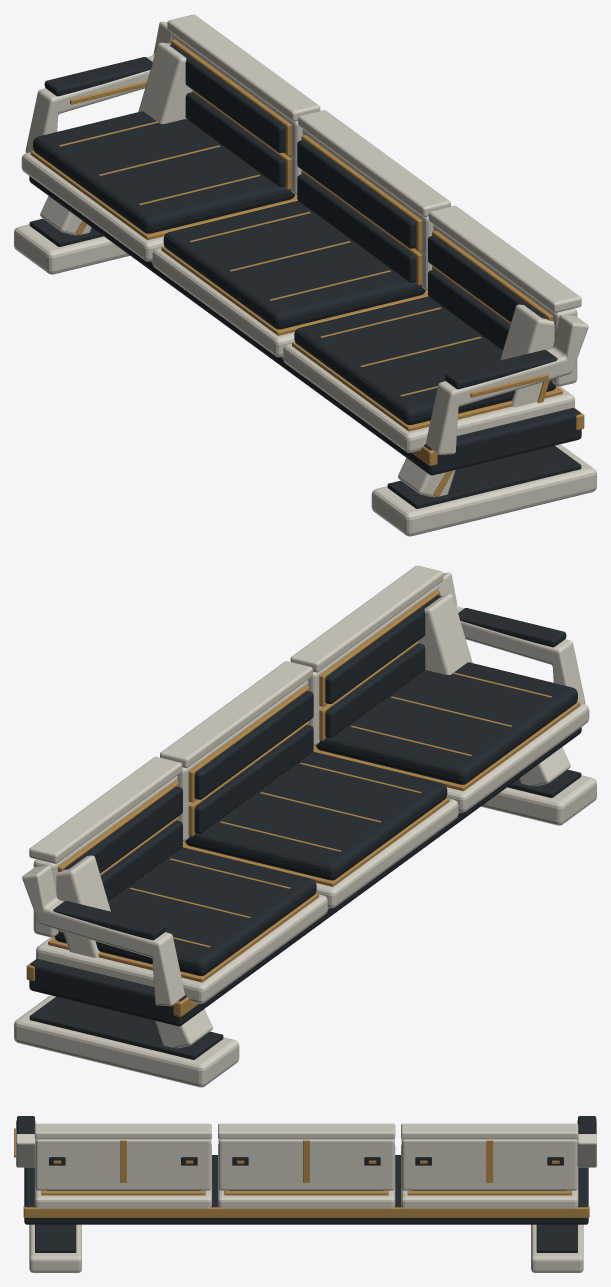
Rendered from SM_Aurelion_KIT_DepartureSeat.fbx.
3 views of the same model, one above another, from view 1: azimuth 30°, elevation 25°; view 2: azimuth 150°, elevation 25°; view 3: azimuth 270°, elevation 25° (orthographic). The views are drawn at different scales.
Parts seen in each view (by area): view 1: SM_Aurelion_KIT_DepartureSeat; view 2: SM_Aurelion_KIT_DepartureSeat; view 3: SM_Aurelion_KIT_DepartureSeat.
Boxes of the visible parts, box(x1,y1,x2,y2) form: SM_Aurelion_KIT_DepartureSeat: box(14, 14, 596, 536); SM_Aurelion_KIT_DepartureSeat: box(14, 565, 596, 1087); SM_Aurelion_KIT_DepartureSeat: box(14, 1116, 596, 1272).
Size of the model in its own units: 94 by 353 by 91.85.
